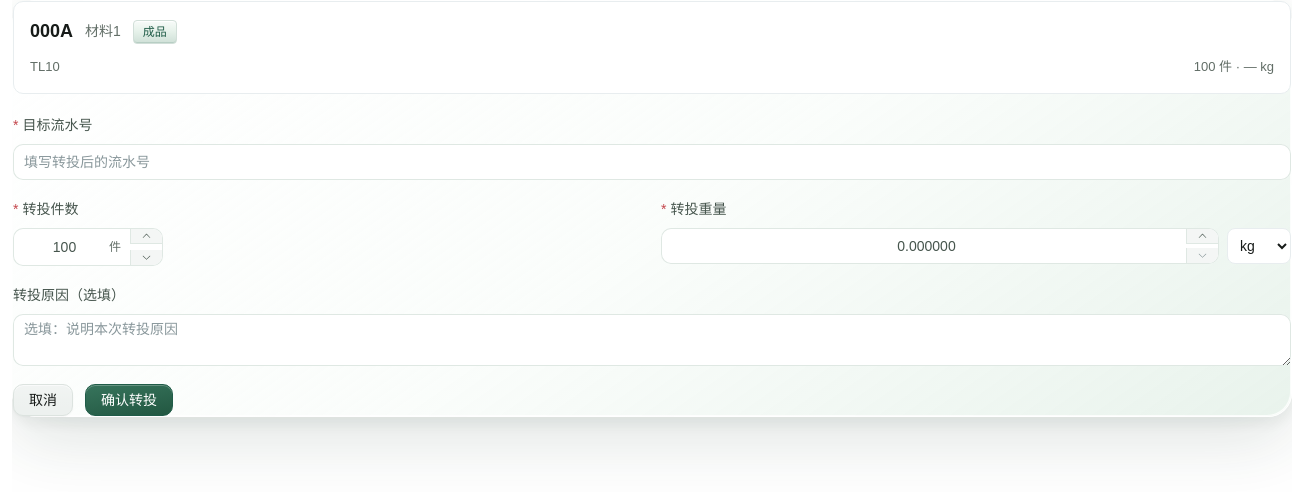
Test: keeps an unreadable balance as an operational error without marking filled fields
The width and height of the screenshot is (1304, 492).
Type "000B" into the field named "转投目标流水号". click: (652,162)
box: [24,144,1280,178]
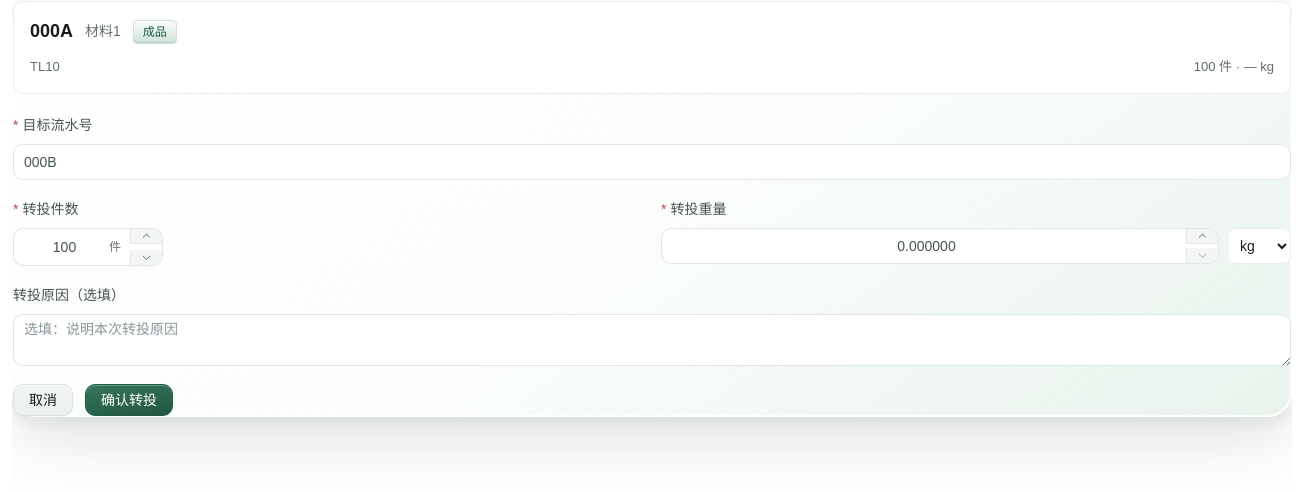
Type "订单物料调整" into the text box named "转投原因". click: (652,340)
box: [13,314,1291,366]
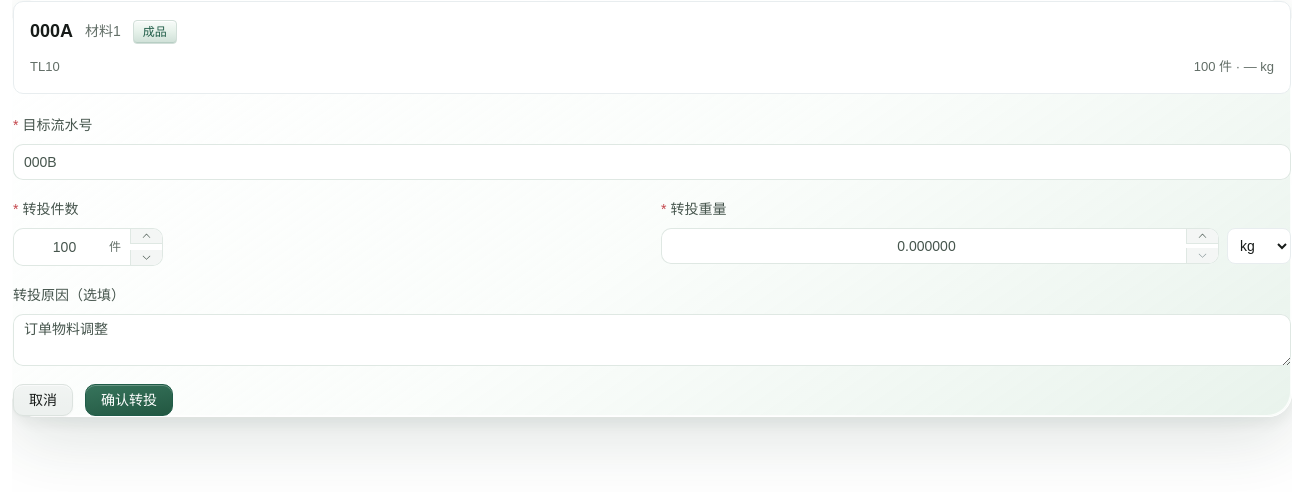
Click the button "确认转投". click: (129,400)
box: [85,384,173,416]
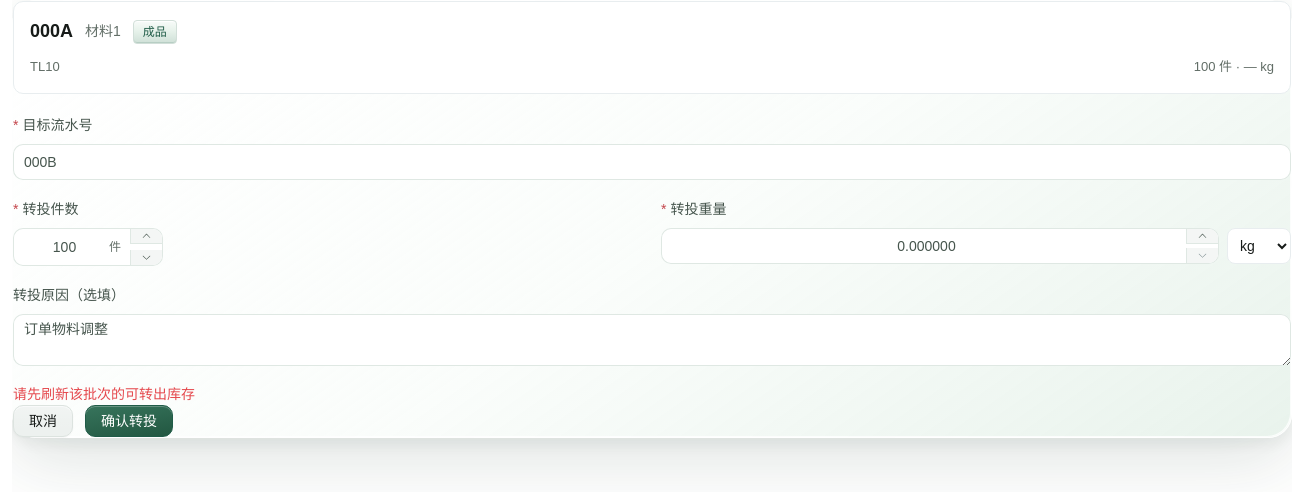
Now the message "请先刷新该批次的可转出库存" is shown, box [13,386,195,402]
